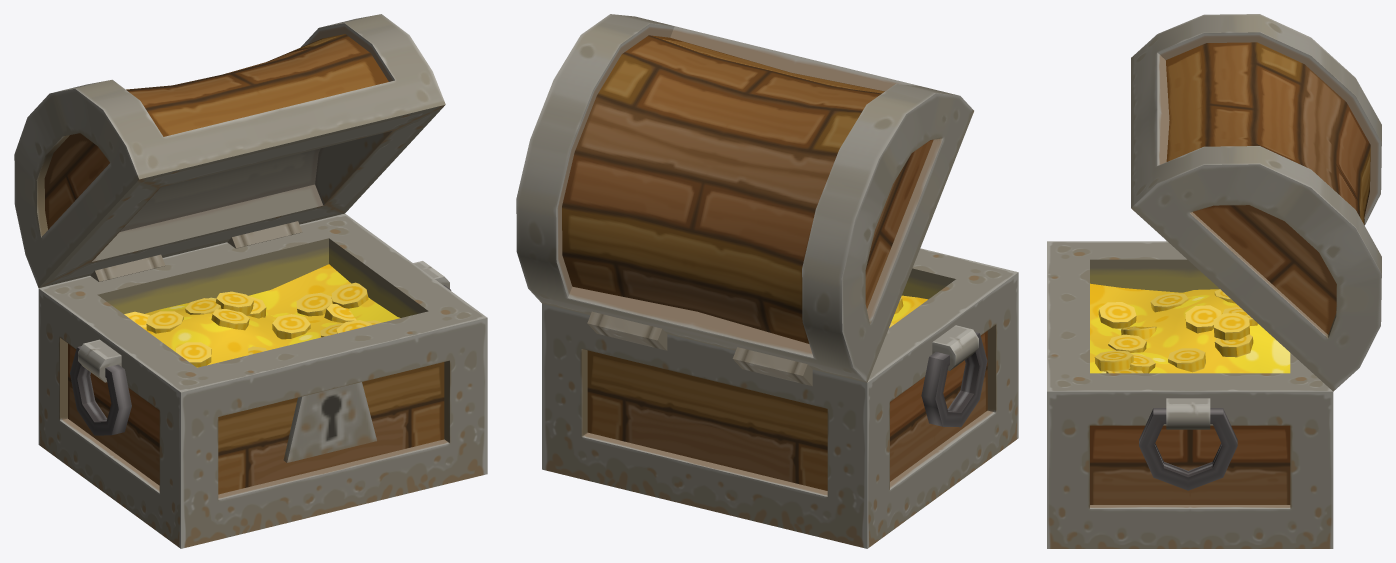
The model's file is Treasure_Chest.FBX.
3 views of the same model, side by side, from view 1: azimuth 30°, elevation 25°; view 2: azimuth 150°, elevation 25°; view 3: azimuth 270°, elevation 25° (orthographic). The views are drawn at different scales.
Parts seen in each view (by area): view 1: Treasure_Chest_Down, Treasure_Chest_Up; view 2: Treasure_Chest_Up, Treasure_Chest_Down; view 3: Treasure_Chest_Down, Treasure_Chest_Up.
Part boxes in pixels (bbox=[...]): Treasure_Chest_Down: bbox=[38, 213, 487, 548]; Treasure_Chest_Up: bbox=[14, 14, 445, 287]; Treasure_Chest_Up: bbox=[516, 14, 973, 382]; Treasure_Chest_Down: bbox=[542, 248, 1018, 548]; Treasure_Chest_Down: bbox=[1047, 240, 1333, 548]; Treasure_Chest_Up: bbox=[1131, 14, 1381, 391].
Bounding box in the file's own units: 118 × 124 × 97.49.
1 material, 1 textured.
